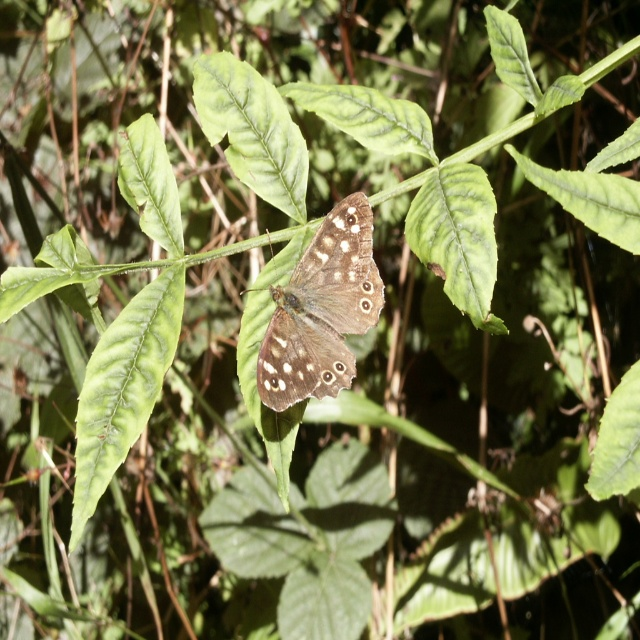Butterfly: (243, 196, 389, 428)
